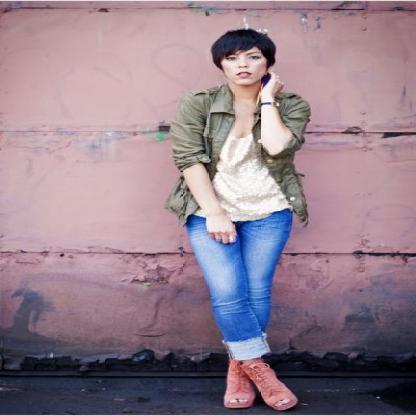jacket: (162, 83, 317, 222)
pants: (183, 208, 310, 360)
shirt: (214, 96, 286, 220)
shoe: (224, 358, 311, 415)
